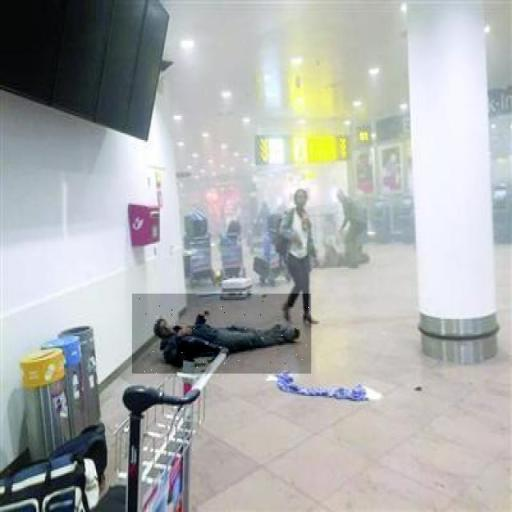Fall: (132, 294, 311, 374)
